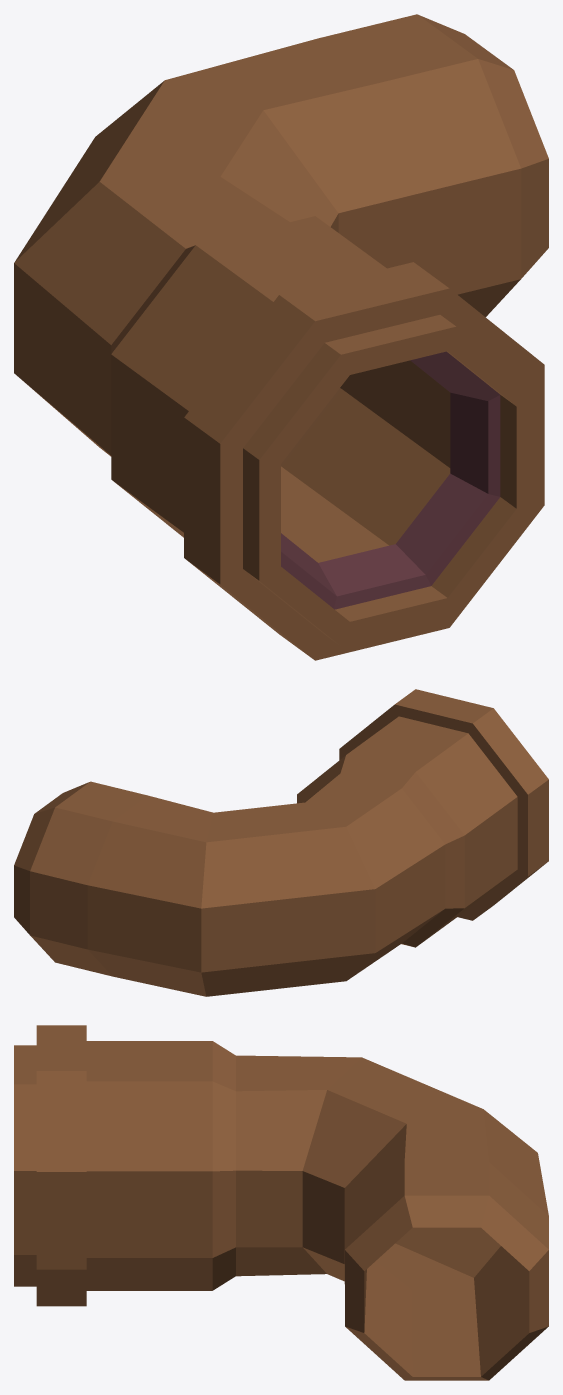
Rendered from pipe-90.fbx.
3 views of the same model, one above another, from view 1: azimuth 30°, elevation 25°; view 2: azimuth 150°, elevation 25°; view 3: azimuth 270°, elevation 25° (orthographic). The views are drawn at different scales.
Parts seen in each view (by area): view 1: pipe-90; view 2: pipe-90; view 3: pipe-90.
Boxes of the visible parts, x1,y1,x2,y2 form: pipe-90: [14, 14, 548, 660]; pipe-90: [14, 689, 548, 996]; pipe-90: [14, 1025, 548, 1380].
Bounding box in the file's own units: 0.5729 × 0.3288 × 0.6773.
